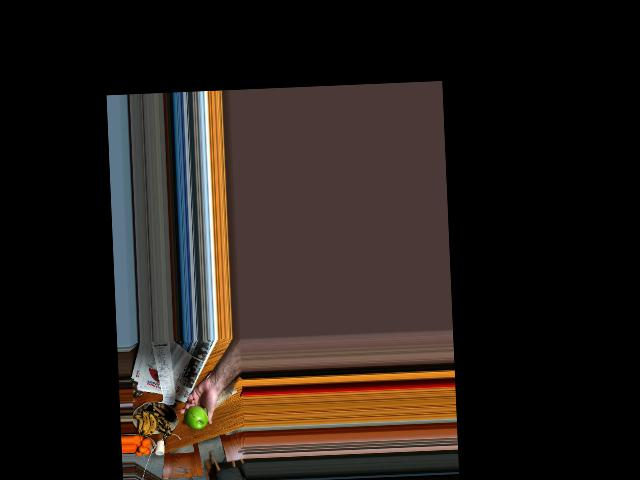apple: (183, 403, 211, 432)
